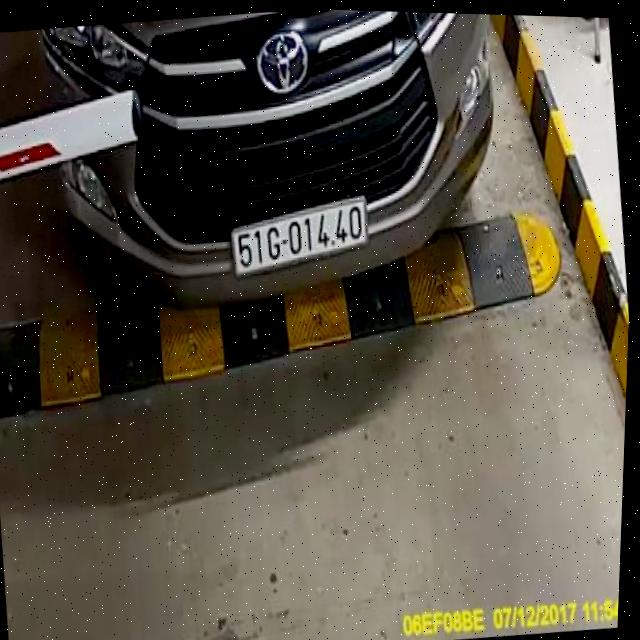car: (9, 1, 532, 328)
plate: (221, 194, 374, 280)
